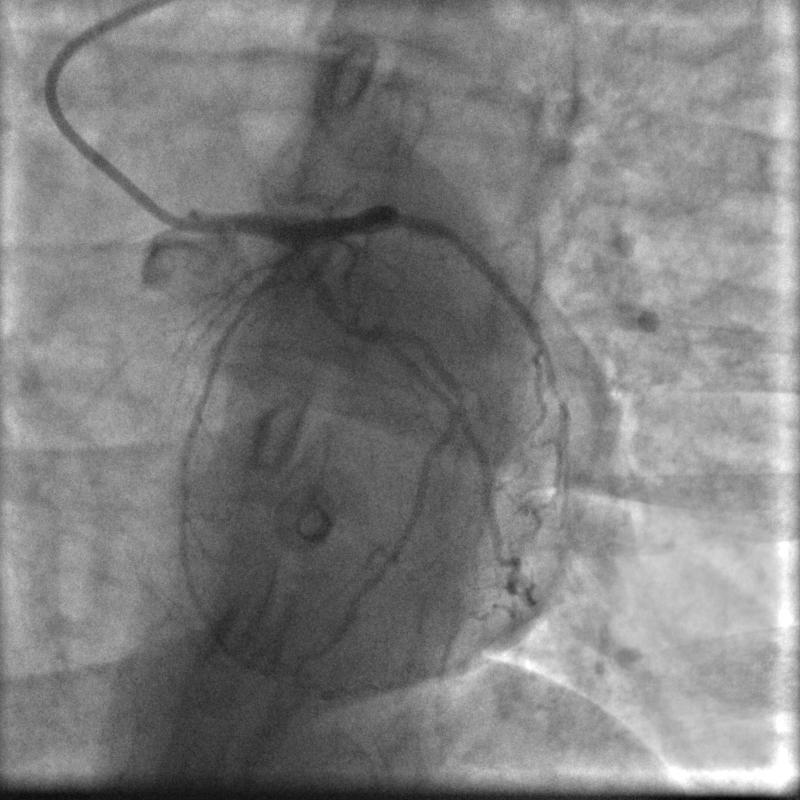Stenosis: (339, 311, 379, 349)
